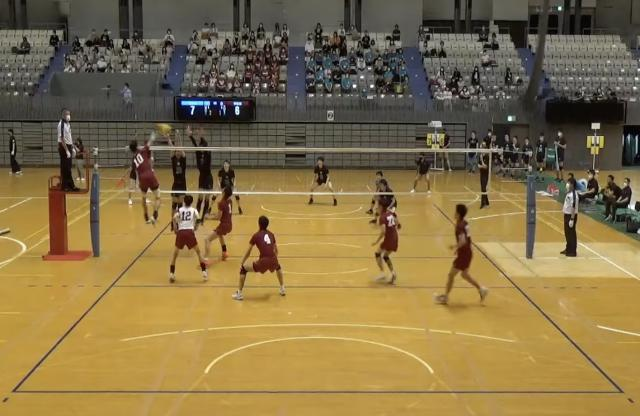spike: (128, 124, 168, 231)
